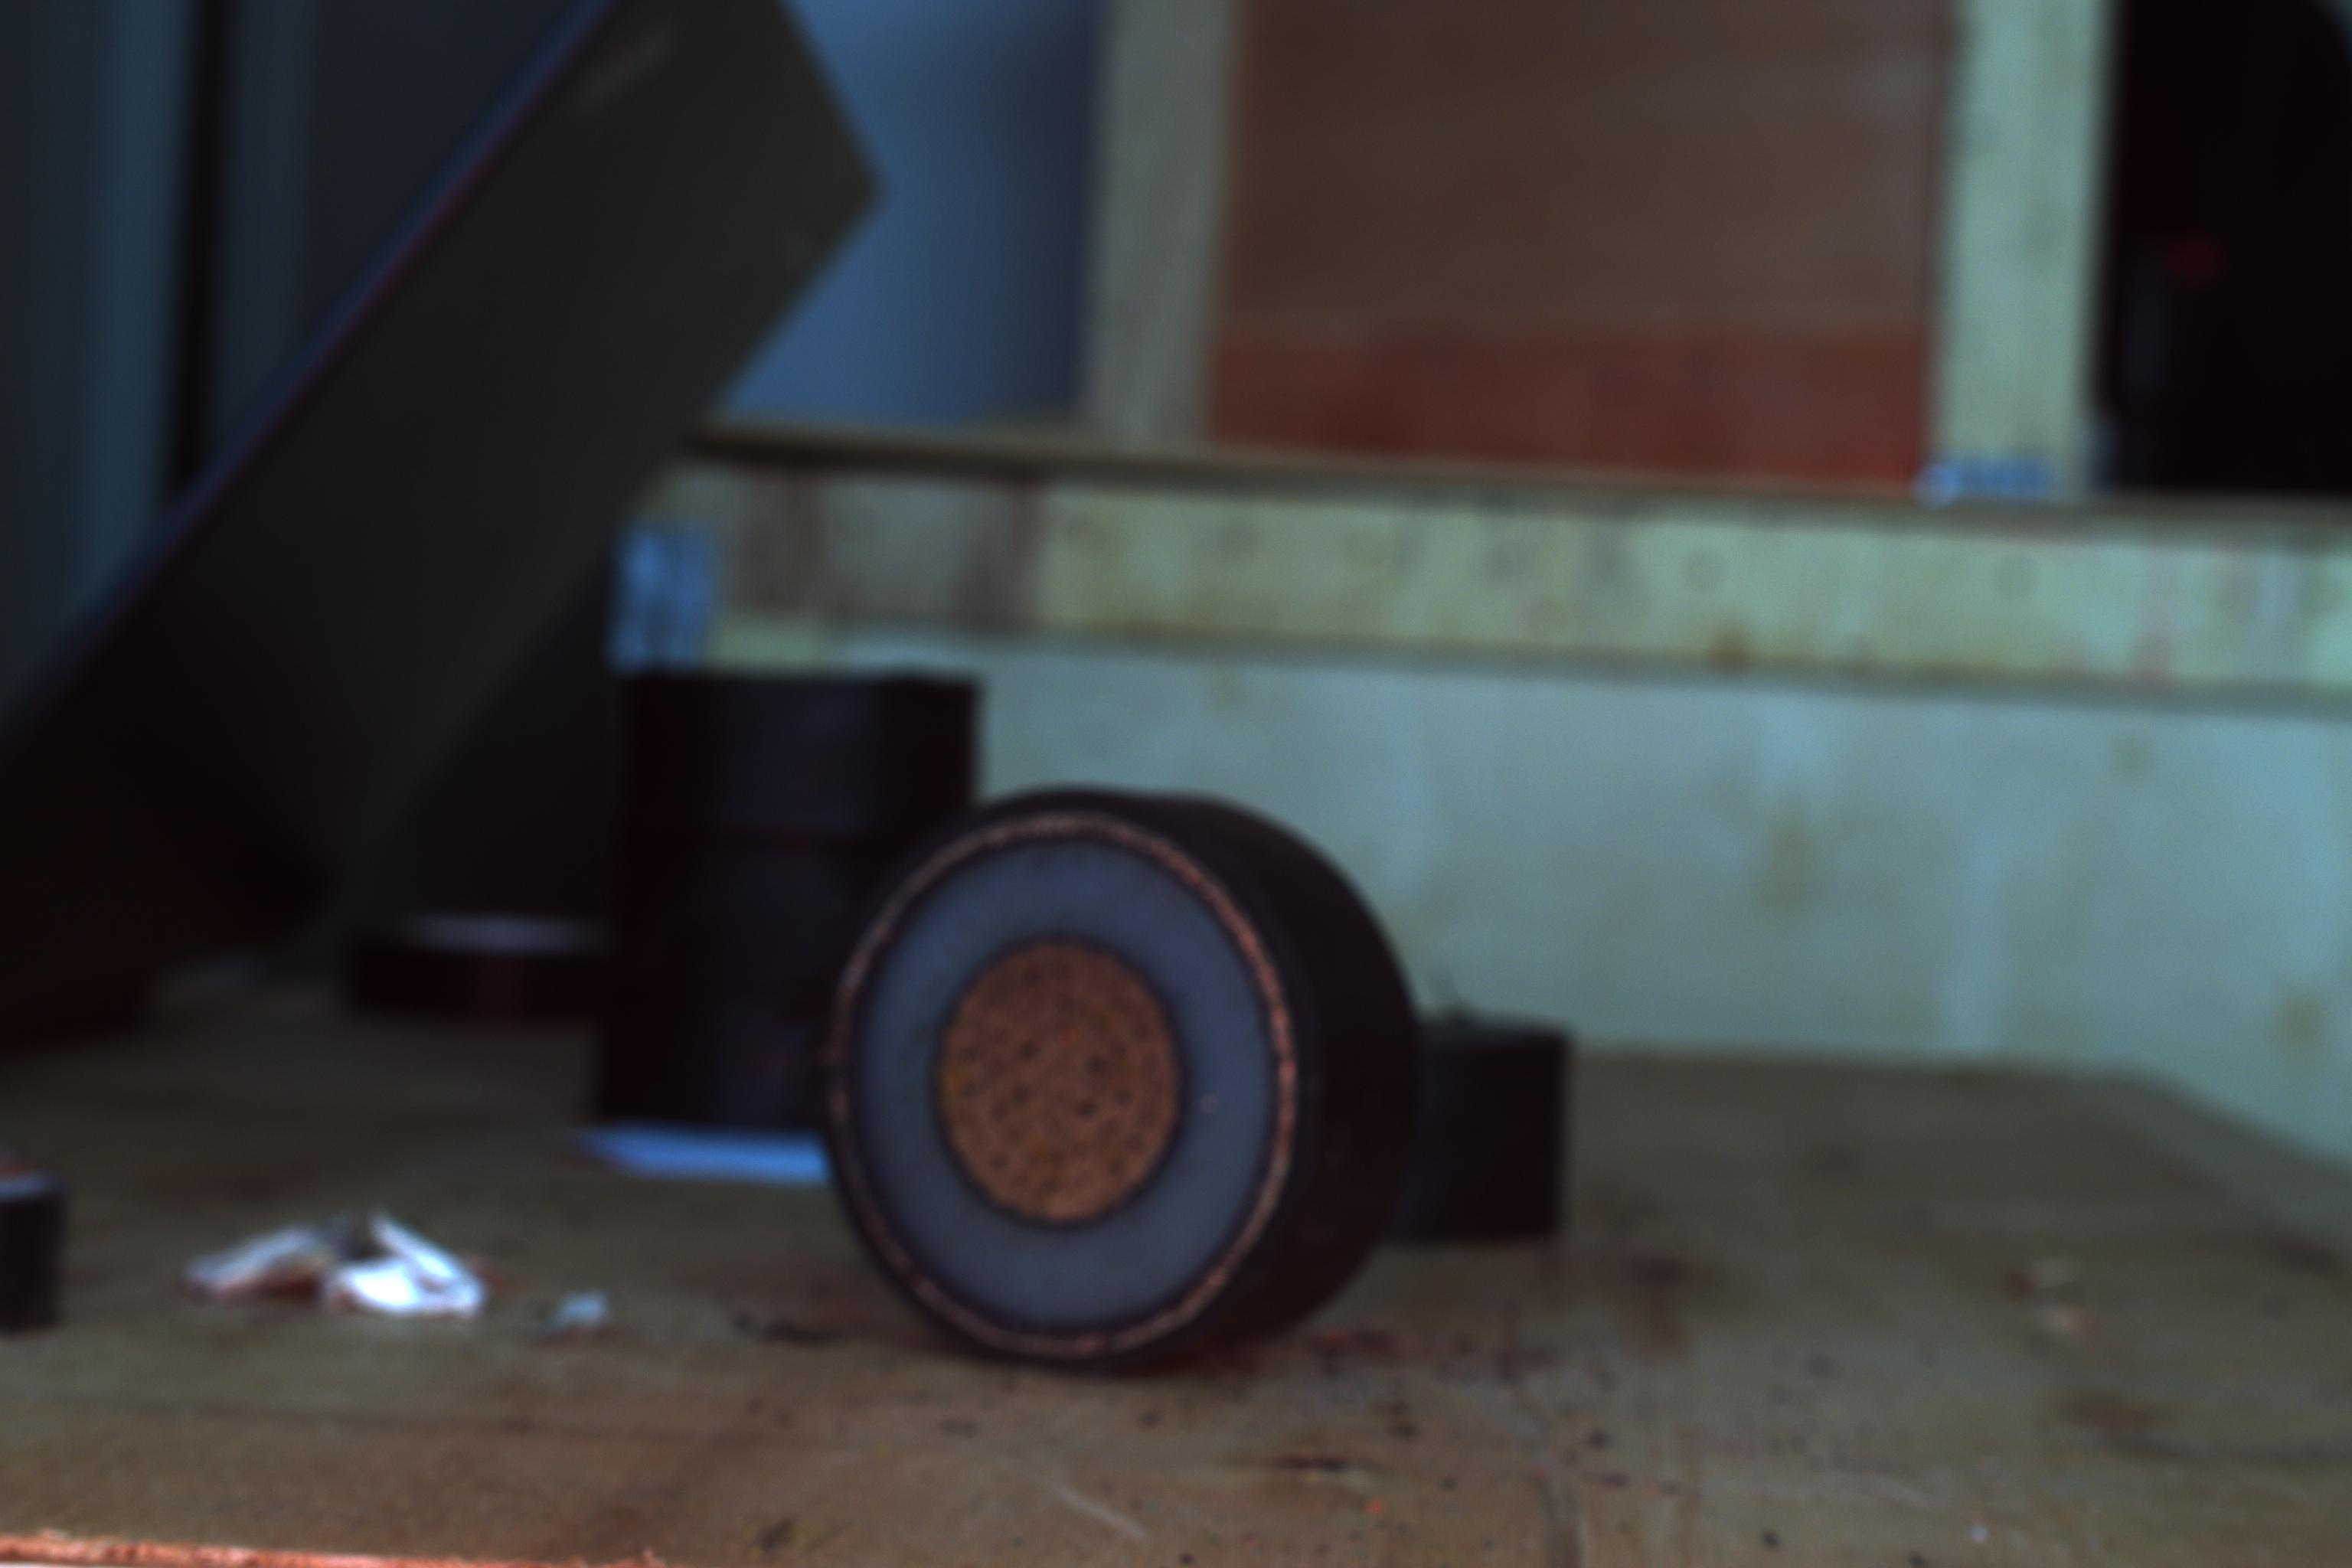YJV_26_35kV_1x630: (808, 808, 1311, 1374)
